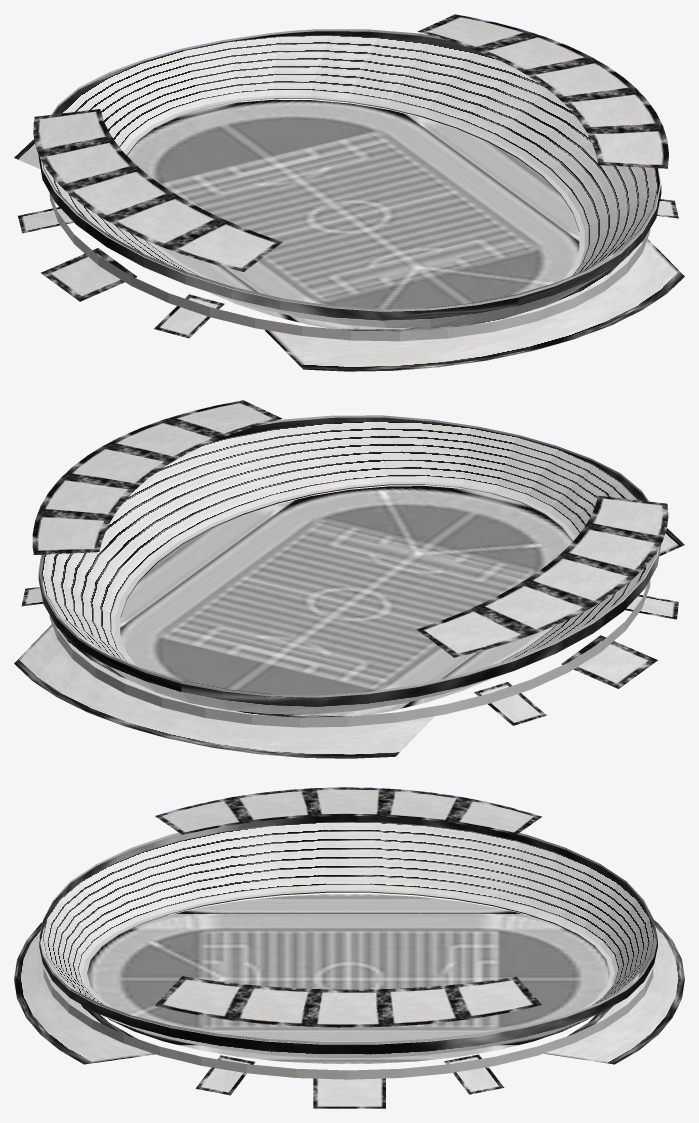
Rendered from SM_ShangCheng.glb.
3 renders of one model, top to bottom at view 1: azimuth 30°, elevation 25°; view 2: azimuth 150°, elevation 25°; view 3: azimuth 270°, elevation 25°, orthographic. The views are drawn at different scales.
Visible parts, largest first — view 1: SM_ZhouJiJiuDian4; view 2: SM_ZhouJiJiuDian4; view 3: SM_ZhouJiJiuDian4.
Part boxes in pixels (x1,y1,x2,y2): SM_ZhouJiJiuDian4: (14,14,684,371); SM_ZhouJiJiuDian4: (14,400,684,758); SM_ZhouJiJiuDian4: (14,787,684,1108).
Bounding box in the file's own units: 236 × 32.45 × 258.
Materials: 2 (2 with a texture image).
